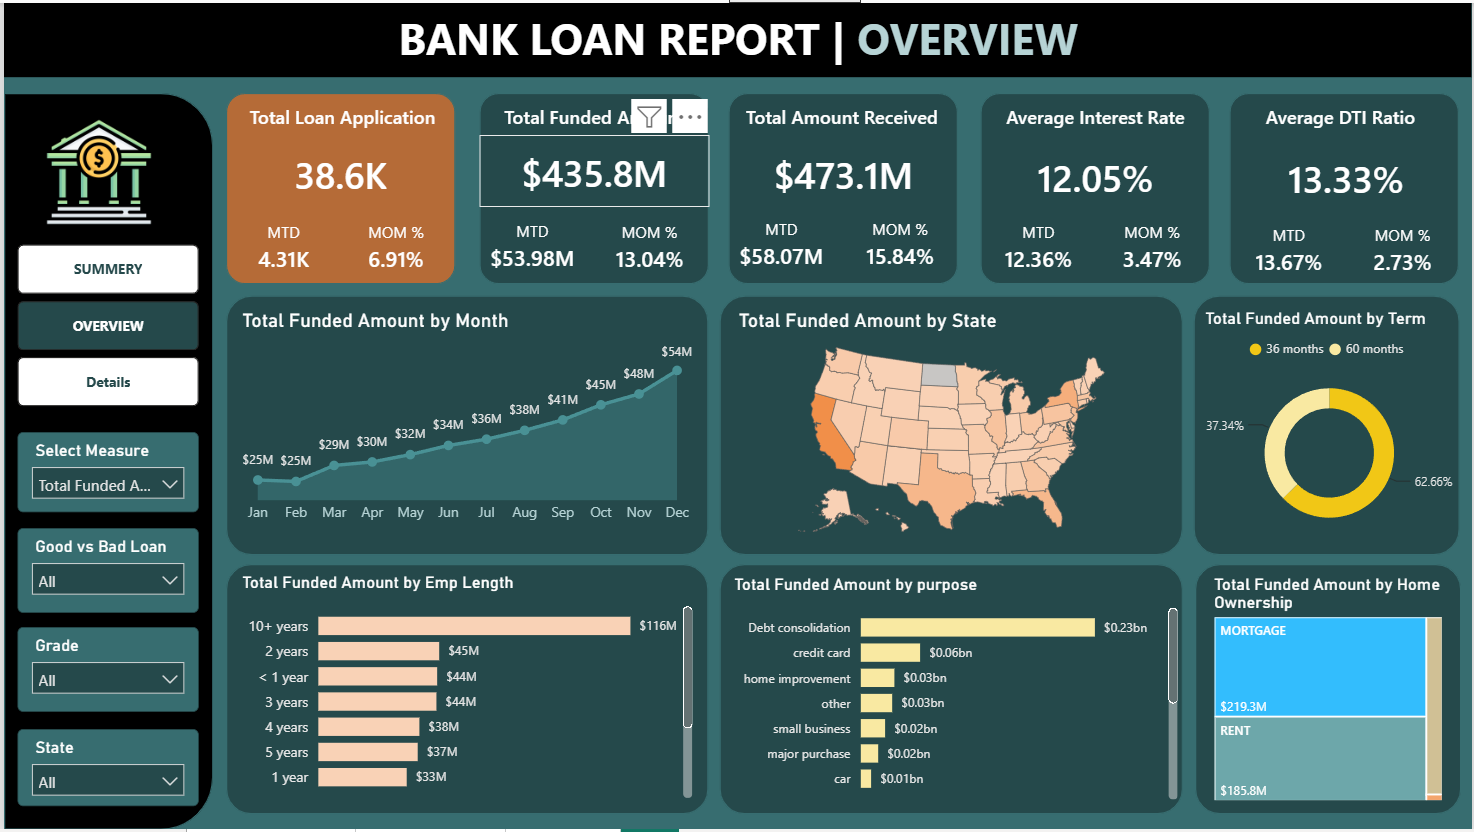

What the dashboard file says about the page in this screenshot:
{"tool":"powerbi","page":{"name":"OVERVIEW","canvas":[1280,720],"ordinal":1},"visuals":[{"type":"textbox","box":[0,0,1280,64.4],"z":0,"group":"g2"},{"type":"group","id":"g1","title":"Group 4","box":[0,78,1269.8,642.2],"z":0},{"type":"group","id":"g2","title":"Group 1","box":[0,0,1280,116.7],"z":1000},{"type":"shape","box":[0,78,182.2,642.2],"z":1000,"group":"g1"},{"type":"cardVisual","fields":{"Data":["KPIs.Total Loan Application"]},"box":[193.3,116.7,200,62.2],"z":2000},{"type":"textbox","box":[203.3,82.2,182.2,34.4],"z":3000,"group":"g2"},{"type":"areaChart","fields":{"Y":["KPIs.Total Funded Amount"],"Category":["Calendar Table.Month"]},"box":[202.9,266.4,402,195.3],"z":3000},{"type":"shape","box":[193.2,254.4,420.5,226.4],"z":4000,"group":"g1"},{"type":"shapeMap","fields":{"Value":["KPIs.Total Funded Amount"],"Category":["financial_loan.address_state"]},"box":[635.3,266.4,380.2,207.6],"z":4000},{"type":"textbox","box":[423.3,82.2,182.2,34.4],"z":5000,"group":"g2"},{"type":"donutChart","fields":{"Y":["KPIs.Total Funded Amount"],"Category":["financial_loan.term"]},"box":[1042,266.4,225.7,207.6],"z":5000},{"type":"textbox","box":[640,82.2,182.2,34.4],"z":6000,"group":"g2"},{"type":"barChart","fields":{"Y":["KPIs.Total Funded Amount"],"Category":["financial_loan.emp_length"]},"box":[202.9,496.8,402,201],"z":6000},{"type":"shape","box":[193.3,78,200,166.7],"z":7000,"group":"g1"},{"type":"barChart","fields":{"Y":["KPIs.Total Funded Amount"],"Category":["financial_loan.purpose"]},"box":[631.5,497.8,396.3,201],"z":7000},{"type":"textbox","box":[860,82.2,182.2,34.4],"z":8000,"group":"g2"},{"type":"treemap","fields":{"Values":["KPIs.Total Funded Amount"],"Group":["financial_loan.home_ownership"]},"box":[1050.5,497.8,208.6,202],"z":8000},{"type":"shape","box":[414.4,78,200,166.7],"z":9000,"group":"g1"},{"type":"cardVisual","fields":{"Data":["KPIs.MTD Loan Application"]},"box":[194.4,182.2,98.9,62.2],"z":9000},{"type":"shape","box":[631.1,78,200,166.7],"z":10000,"group":"g1"},{"type":"cardVisual","fields":{"Data":["KPIs.MOM % Loan Application"]},"box":[293.3,182.2,98.9,62.2],"z":10000},{"type":"cardVisual","fields":{"Data":["KPIs.Total Funded Amount"]},"box":[414.3,115.7,200,62.2],"z":11000},{"type":"shape","box":[851.1,78,200,166.7],"z":12000,"group":"g1"},{"type":"cardVisual","fields":{"Data":["KPIs.MTD Funded Amount"]},"box":[406,181,108,62],"z":12000},{"type":"cardVisual","fields":{"Data":["KPIs.MOM % Funded Amount"]},"box":[514.3,181.2,98.9,62.2],"z":13000},{"type":"shape","box":[1067.8,78,200,166.7],"z":14000,"group":"g1"},{"type":"cardVisual","fields":{"Data":["KPIs.Total Amount Received"]},"box":[631,116,200,62],"z":14000},{"type":"cardVisual","fields":{"Data":["KPIs.MTD Amount Received"]},"box":[624,179,108,62],"z":15000},{"type":"cardVisual","fields":{"Data":["KPIs.MOM % Received Amount"]},"box":[732.3,179.2,98.9,62.2],"z":16000},{"type":"cardVisual","fields":{"Data":["KPIs.Average Int Rate"]},"box":[851,119,200,62],"z":17000},{"type":"cardVisual","fields":{"Data":["KPIs.MTD Int Rate"]},"box":[851,182,101,62],"z":18000},{"type":"cardVisual","fields":{"Data":["KPIs.MOM % Int rate"]},"box":[952.3,182.2,98.9,62.2],"z":19000},{"type":"cardVisual","fields":{"Data":["KPIs.Average DTI"]},"box":[1069.6,120.9,200,62],"z":20000},{"type":"cardVisual","fields":{"Data":["KPIs.MTD DTI"]},"box":[1069.6,183.9,101,62],"z":21000},{"type":"cardVisual","fields":{"Data":["KPIs.MOM % DTI"]},"box":[1170.9,184.2,98.9,62.2],"z":22000},{"type":"pageNavigator","box":[12,210,158,143],"z":22001},{"type":"image","box":[27.7,99.1,110.9,96.1],"z":27000,"group":"g1"},{"type":"slicer","fields":{"Values":["financial_loan.Good vs Bad Loan"]},"box":[12,457.2,158,73.9],"z":28000,"group":"g3"},{"type":"textbox","box":[1076.7,82.2,182.2,34.4],"z":29000,"group":"g2"},{"type":"slicer","fields":{"Values":["financial_loan.grade"]},"box":[12,544.1,158,73.9],"z":30000,"group":"g3"},{"type":"slicer","fields":{"Values":["financial_loan.address_state"]},"box":[12,632.8,158,67.5],"z":31000,"group":"g3"},{"type":"shape","box":[193.2,489.1,420.5,218.1],"z":32000,"group":"g1"},{"type":"shape","box":[623.8,254.4,403.9,226.4],"z":33000,"group":"g1"},{"type":"shape","box":[623.8,489.1,403.9,218.1],"z":34000,"group":"g1"},{"type":"shape","box":[1036.9,254.4,232,226.4],"z":35000,"group":"g1"},{"type":"shape","box":[1037.9,489.1,232,218.1],"z":36000,"group":"g1"},{"type":"slicer","fields":{"Values":["Select Measure.Select Measure"]},"box":[12,374,158,70.2],"z":37000,"group":"g3"},{"type":"group","id":"g3","title":"Group 3","box":[12,374,158,326],"z":37003,"group":"g1"}]}

Visuals, with their boxes in screenshot pixels (x1, y1, x2, y2), scaled from the page's 1280x720 canvas onto the 1474x832 screenshot:
textbox: left=0, top=0, right=1473, bottom=74
"Group 4" group: left=0, top=90, right=1462, bottom=831
"Group 1" group: left=0, top=0, right=1473, bottom=135
shape: left=0, top=90, right=210, bottom=831
cardVisual - KPIs.Total Loan Application: left=223, top=135, right=453, bottom=207
textbox: left=234, top=95, right=444, bottom=135
areaChart - KPIs.Total Funded Amount x Calendar Table.Month: left=234, top=308, right=697, bottom=534
shape: left=222, top=294, right=707, bottom=556
shapeMap - KPIs.Total Funded Amount x financial_loan.address_state: left=732, top=308, right=1169, bottom=548
textbox: left=487, top=95, right=697, bottom=135
donutChart - KPIs.Total Funded Amount x financial_loan.term: left=1200, top=308, right=1460, bottom=548
textbox: left=737, top=95, right=947, bottom=135
barChart - KPIs.Total Funded Amount x financial_loan.emp_length: left=234, top=574, right=697, bottom=806
shape: left=223, top=90, right=453, bottom=283
barChart - KPIs.Total Funded Amount x financial_loan.purpose: left=727, top=575, right=1184, bottom=808
textbox: left=990, top=95, right=1200, bottom=135
treemap - KPIs.Total Funded Amount x financial_loan.home_ownership: left=1210, top=575, right=1450, bottom=809
shape: left=477, top=90, right=708, bottom=283
cardVisual - KPIs.MTD Loan Application: left=224, top=211, right=338, bottom=282
shape: left=727, top=90, right=957, bottom=283
cardVisual - KPIs.MOM % Loan Application: left=338, top=211, right=452, bottom=282
cardVisual - KPIs.Total Funded Amount: left=477, top=134, right=707, bottom=206
shape: left=980, top=90, right=1210, bottom=283
cardVisual - KPIs.MTD Funded Amount: left=468, top=209, right=592, bottom=281
cardVisual - KPIs.MOM % Funded Amount: left=592, top=209, right=706, bottom=281
shape: left=1230, top=90, right=1460, bottom=283
cardVisual - KPIs.Total Amount Received: left=727, top=134, right=957, bottom=206
cardVisual - KPIs.MTD Amount Received: left=719, top=207, right=843, bottom=278
cardVisual - KPIs.MOM % Received Amount: left=843, top=207, right=957, bottom=279
cardVisual - KPIs.Average Int Rate: left=980, top=138, right=1210, bottom=209
cardVisual - KPIs.MTD Int Rate: left=980, top=210, right=1096, bottom=282
cardVisual - KPIs.MOM % Int rate: left=1097, top=211, right=1211, bottom=282
cardVisual - KPIs.Average DTI: left=1232, top=140, right=1462, bottom=211
cardVisual - KPIs.MTD DTI: left=1232, top=213, right=1348, bottom=284
cardVisual - KPIs.MOM % DTI: left=1348, top=213, right=1462, bottom=285
pageNavigator: left=14, top=243, right=196, bottom=408
image: left=32, top=115, right=160, bottom=226
slicer - financial_loan.Good vs Bad Loan: left=14, top=528, right=196, bottom=614
textbox: left=1240, top=95, right=1450, bottom=135
slicer - financial_loan.grade: left=14, top=629, right=196, bottom=714
slicer - financial_loan.address_state: left=14, top=731, right=196, bottom=809
shape: left=222, top=565, right=707, bottom=817
shape: left=718, top=294, right=1183, bottom=556
shape: left=718, top=565, right=1183, bottom=817
shape: left=1194, top=294, right=1461, bottom=556
shape: left=1195, top=565, right=1462, bottom=817
slicer - Select Measure.Select Measure: left=14, top=432, right=196, bottom=513
"Group 3" group: left=14, top=432, right=196, bottom=809
